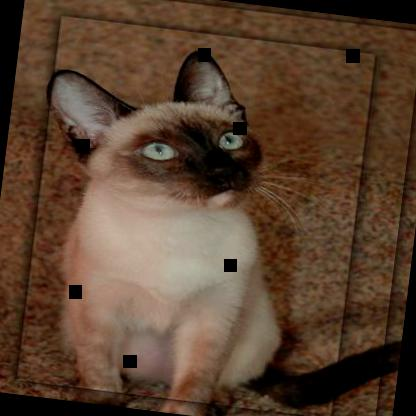cat: (5, 29, 415, 415)
